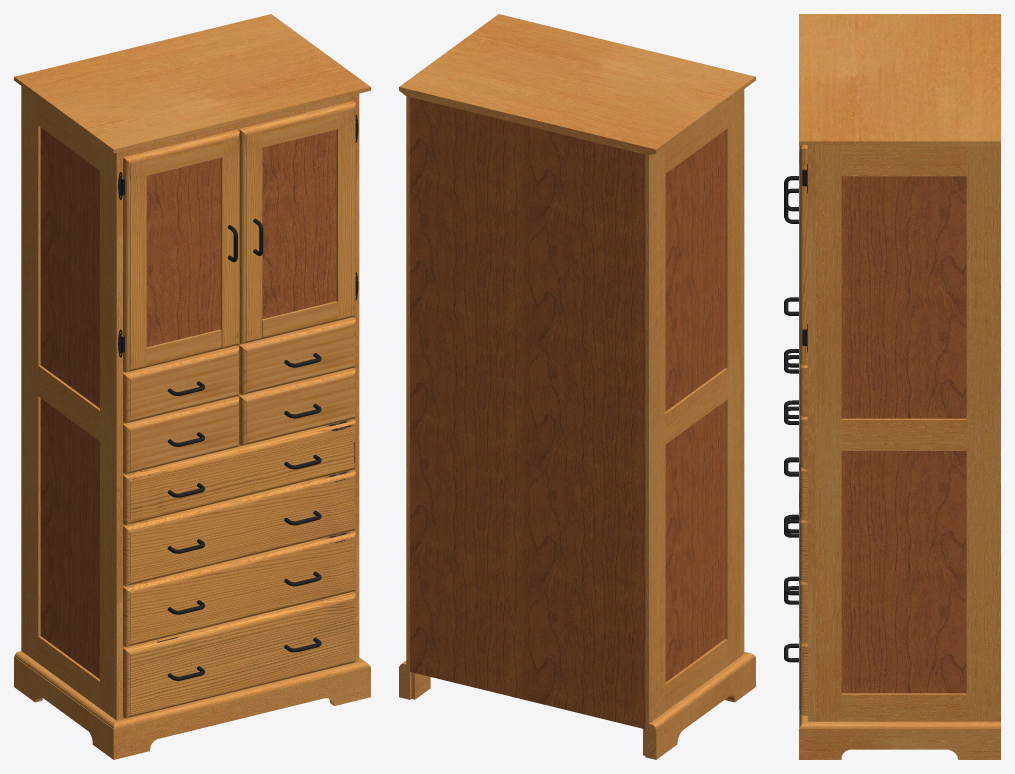
The model's file is cabinet.dae.
3 renders of one model, left to right at view 1: azimuth 30°, elevation 25°; view 2: azimuth 150°, elevation 25°; view 3: azimuth 270°, elevation 25°, orthographic.
Parts seen in each view (by area): view 1: side_panel (×2), _5__drawer_face (×2), top, door_panel (×2), _4__small_drawer_face (×4), door_stile (×4), _6__drawer_face, base_board, _4__drawer_face, side_rear-stile, front_face_stile (×2), side_front-stile (+4 smaller); view 2: back_panel, side_panel (×2), top, side_rear-stile (×2), side_front-stile, base_board, side_upper_lower-rail (×2), front_face_stile, side_center-stile; view 3: side_panel (×2), top, side_rear-stile, side_front-stile, side_upper_lower-rail (×2), base_board, front_face_stile, side_center-stile, door_stile, _5__drawer_face (×2), _4__small_drawer_face (×2), _6__drawer_face (+1 smaller).
Part boxes in pixels (box(x1,y1,x2,y2)): side_panel (×2): box(40, 127, 99, 678); _5__drawer_face (×2): box(123, 470, 355, 646); top: box(14, 14, 370, 153); door_panel (×2): box(146, 129, 336, 347); _4__small_drawer_face (×4): box(123, 317, 355, 473); door_stile (×4): box(123, 101, 355, 372); _6__drawer_face: box(123, 592, 355, 718); base_board: box(14, 651, 370, 759); _4__drawer_face: box(123, 419, 355, 524); side_rear-stile: box(21, 86, 40, 662); front_face_stile (×2): box(112, 93, 359, 720); side_front-stile: box(100, 143, 112, 717); back_panel: box(410, 97, 645, 728); side_panel (×2): box(665, 130, 724, 681); top: box(399, 14, 755, 155); side_rear-stile (×2): box(406, 96, 665, 757); side_front-stile: box(725, 92, 740, 700); base_board: box(399, 652, 755, 759); side_upper_lower-rail (×2): box(665, 101, 727, 711); front_face_stile: box(740, 89, 744, 656); side_center-stile: box(665, 368, 727, 444); side_panel (×2): box(841, 176, 966, 693); top: box(799, 14, 1000, 145); side_rear-stile: box(966, 145, 1000, 721); side_front-stile: box(816, 145, 841, 721); side_upper_lower-rail (×2): box(841, 145, 966, 721); base_board: box(799, 710, 1000, 759); front_face_stile: box(807, 145, 815, 721); side_center-stile: box(841, 418, 966, 450); door_stile: box(799, 145, 807, 365); _5__drawer_face (×2): box(799, 514, 807, 643); _4__small_drawer_face (×2): box(799, 359, 807, 468); _6__drawer_face: box(799, 638, 807, 715).
Size of the model in its own units: 26.46 by 19.06 by 60.
11 materials, 9 textured.
